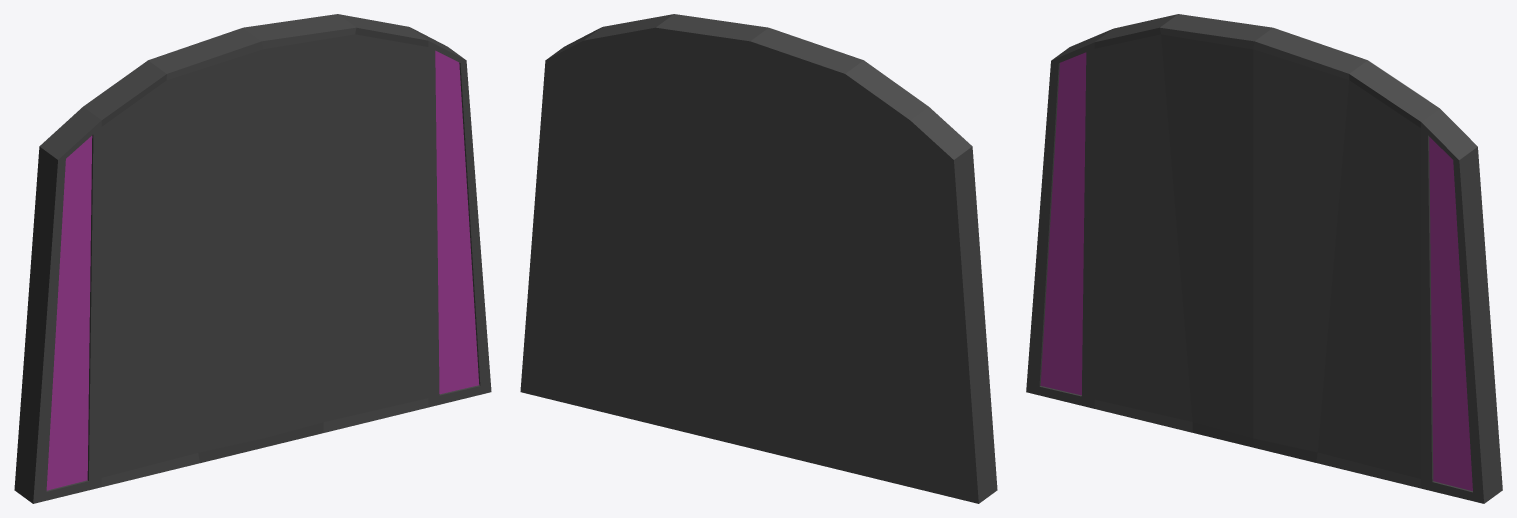
File: VaultDoorV1.fbx
The picture shows the model from 3 angles, left to right: view 1: azimuth 30°, elevation 25°; view 2: azimuth 150°, elevation 25°; view 3: azimuth 330°, elevation 25°; orthographic projection.
Visible parts, largest first — view 1: pCube70; view 2: pCube70; view 3: pCube70.
Boxes of the visible parts, x1,y1,x2,y2 form: pCube70: (14,14,491,503); pCube70: (520,14,997,503); pCube70: (1026,14,1502,503).
Size of the model in its own units: 34.07 by 28.9 by 2.56.
